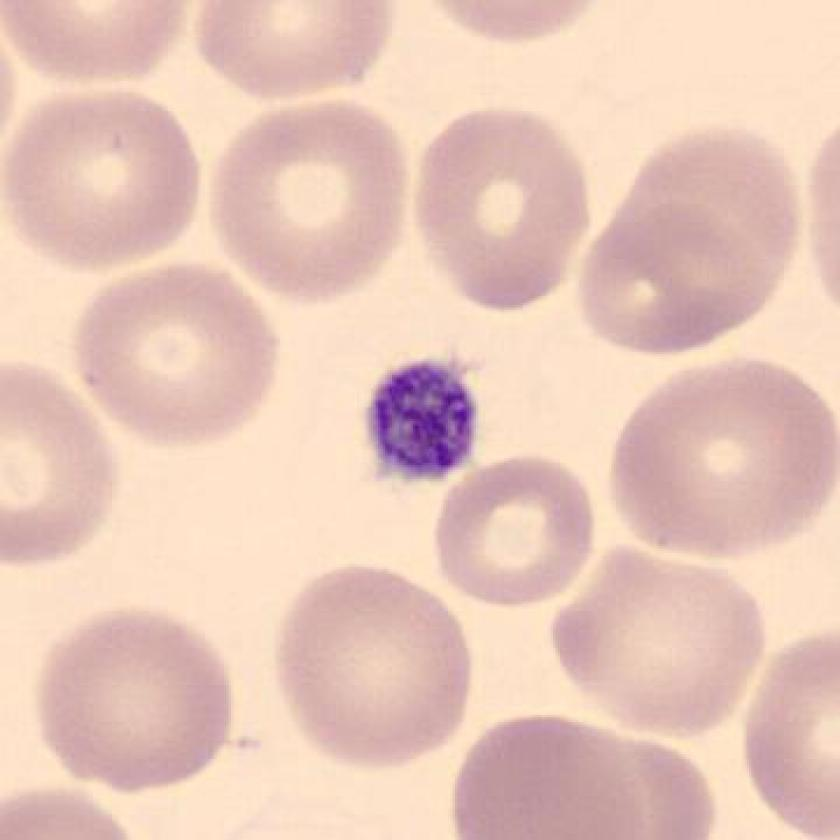platelets: (351, 348, 493, 496)
